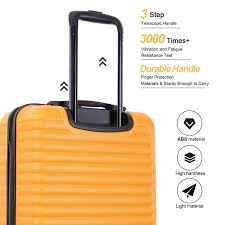suitcase: (1, 11, 159, 225)
